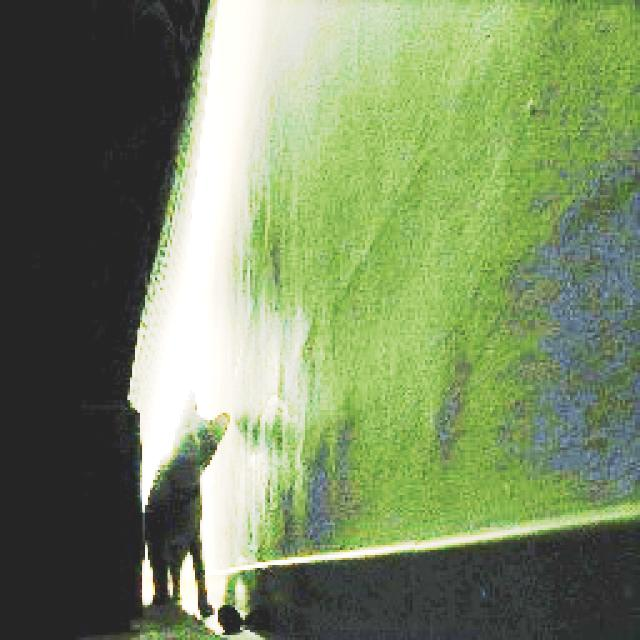cat: (138, 384, 235, 622)
